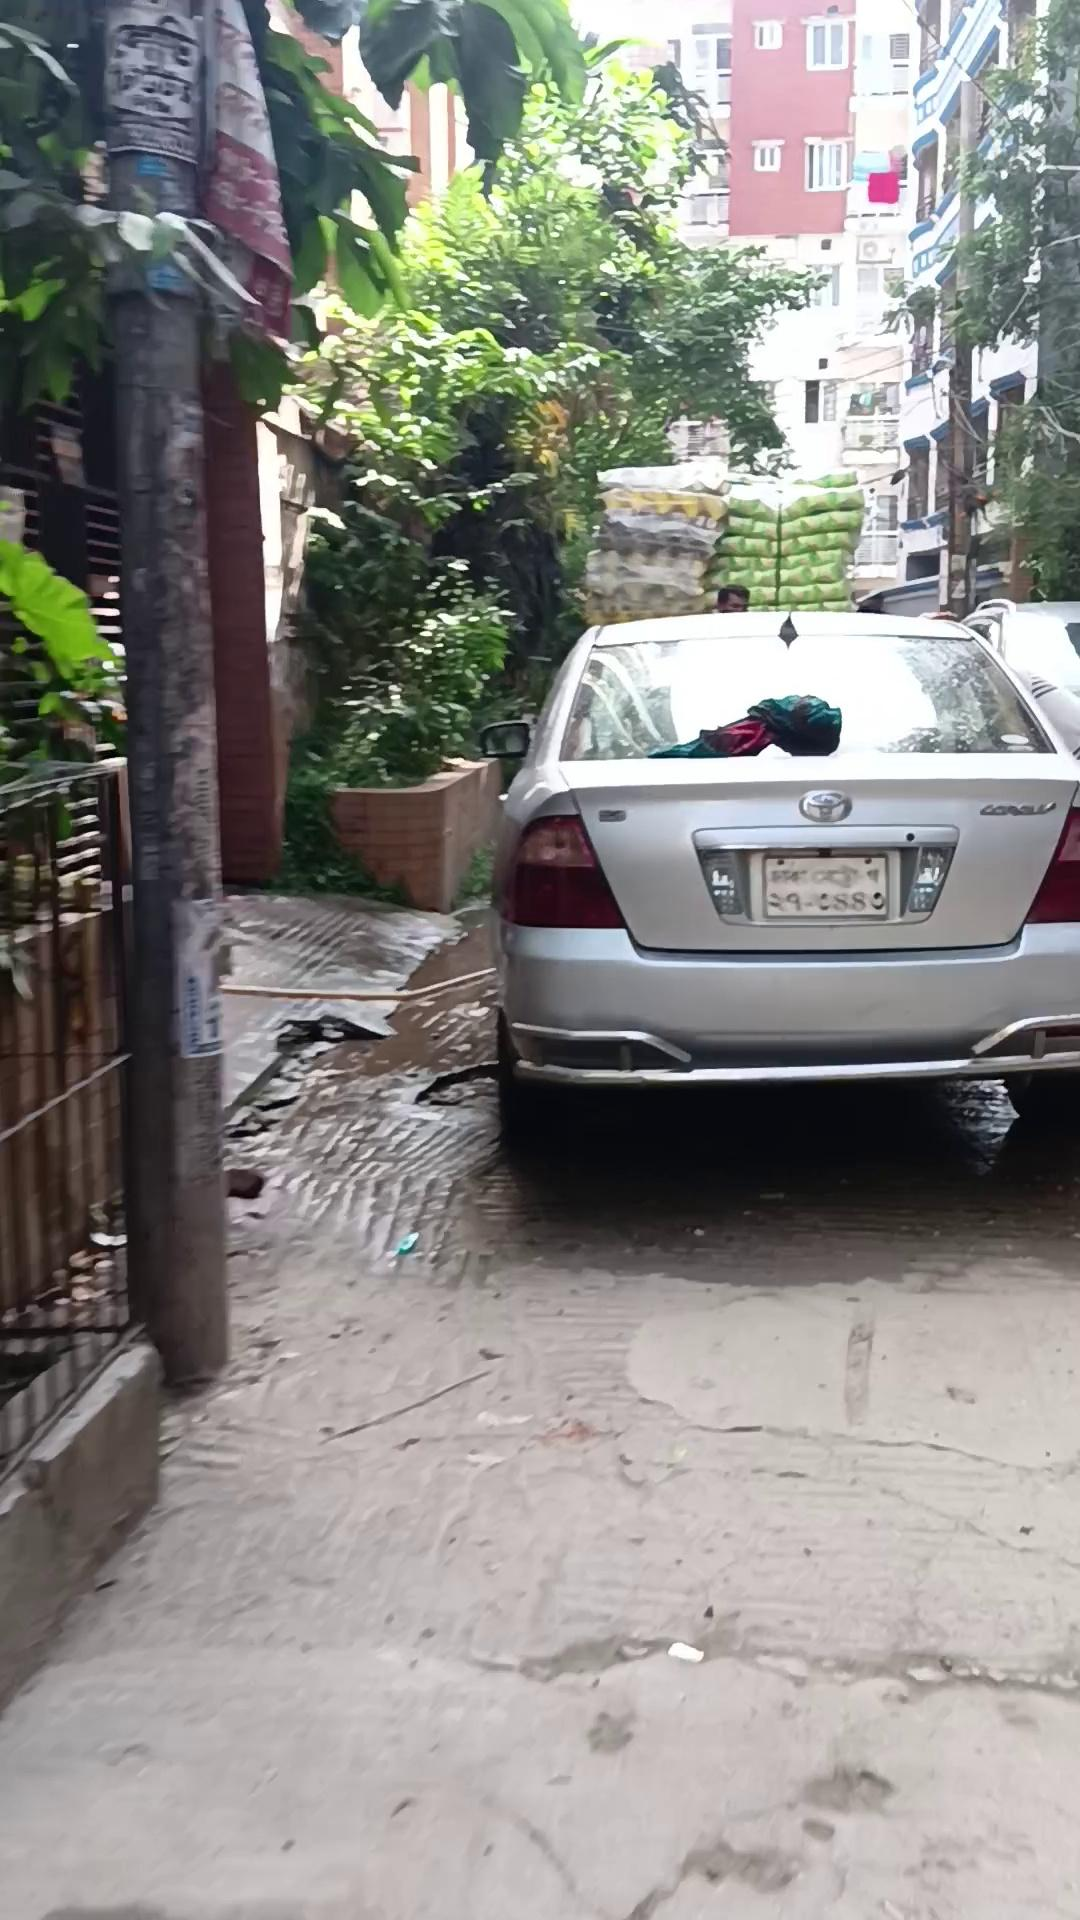Broken-road: (1, 889, 1077, 1916)
Car: (477, 603, 1079, 1127)
Crosswalk: (0, 1325, 165, 1712)
Muddy road: (713, 584, 749, 612)
Obstacle: (98, 3, 232, 1389)
Railroad-crossing: (256, 881, 506, 1147)
